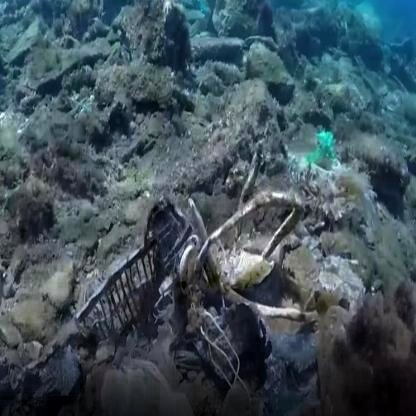misc: (56, 221, 222, 349)
